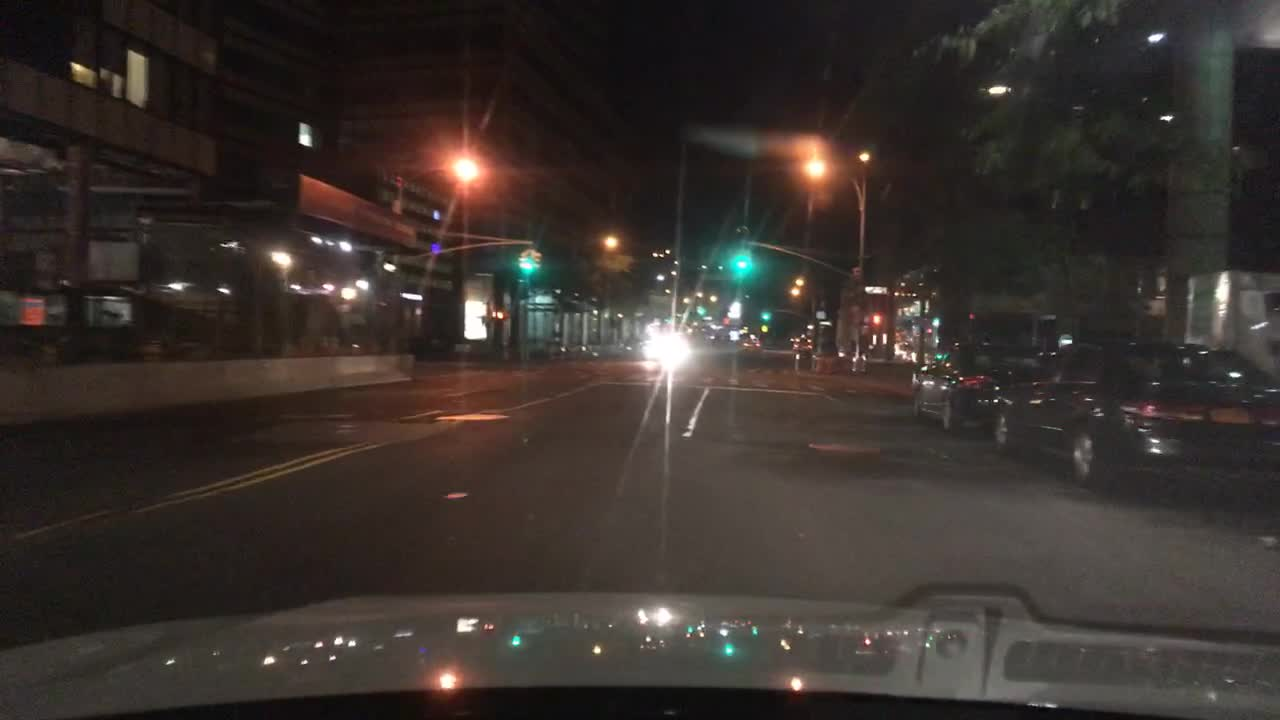car: (994, 336, 1278, 492), (910, 340, 1044, 434), (622, 338, 646, 354), (791, 336, 814, 351), (737, 337, 761, 347)
traffic light: (733, 249, 750, 272), (688, 303, 708, 321), (518, 249, 534, 271), (758, 306, 775, 323), (719, 311, 731, 329), (870, 312, 885, 323), (534, 252, 542, 269)
